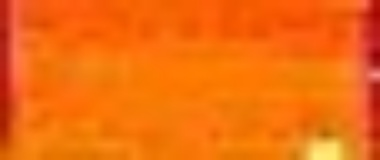Hotspot: (298, 129, 356, 160)
